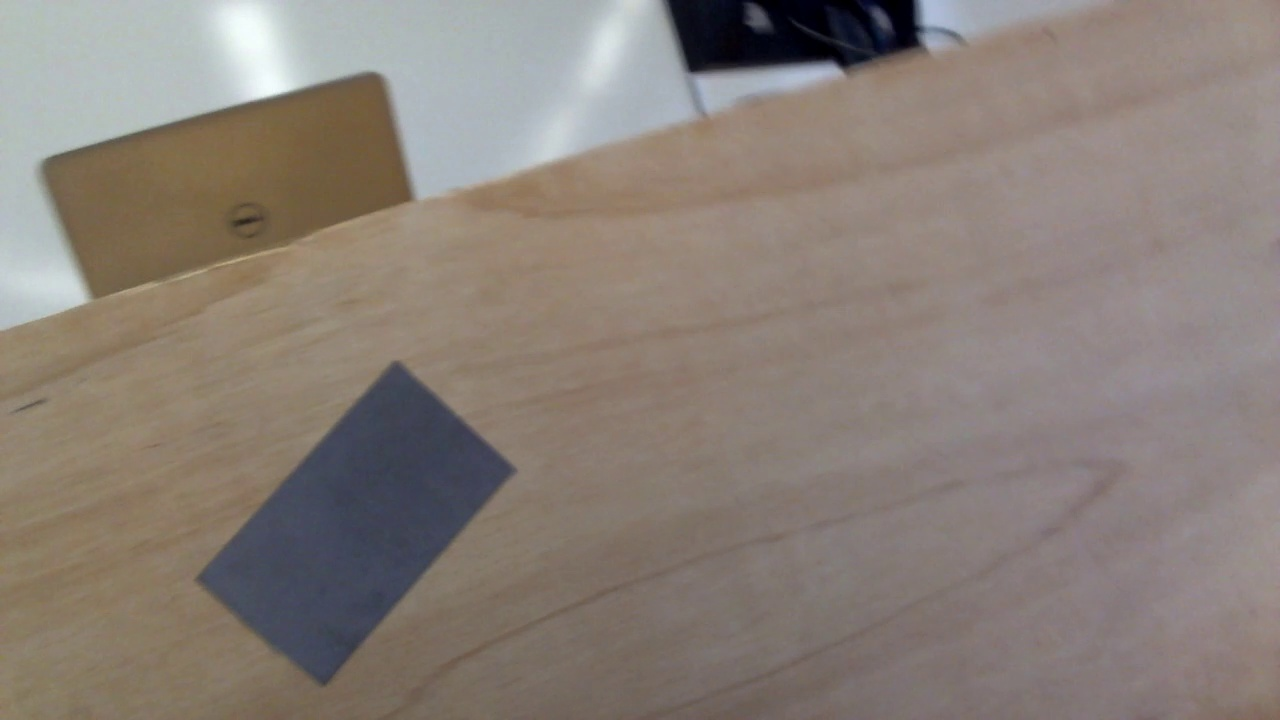Tape: (195, 363, 520, 688)
